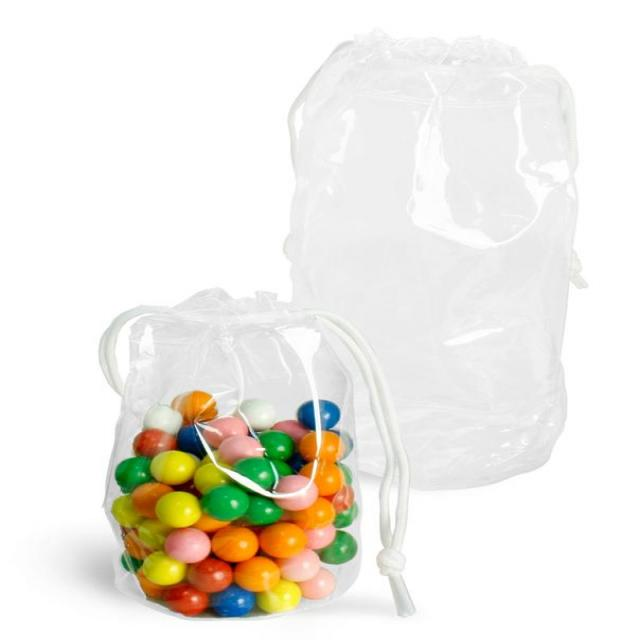plastic_bag: (252, 14, 586, 499), (93, 282, 455, 640)
